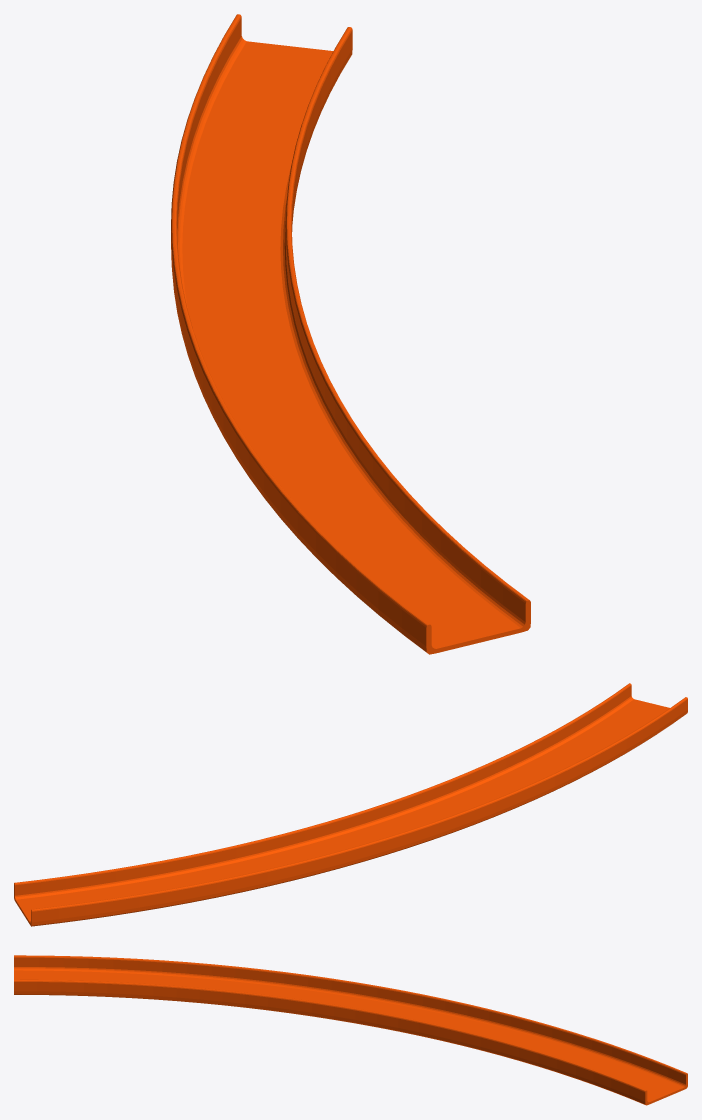
The model's file is Curva media 45.FBX.
3 views of the same model, one above another, from view 1: azimuth 30°, elevation 25°; view 2: azimuth 150°, elevation 25°; view 3: azimuth 270°, elevation 25° (orthographic). The views are drawn at different scales.
Visible parts, largest first — view 1: Curva média 45; view 2: Curva média 45; view 3: Curva média 45.
Part boxes in pixels (x1,y1,x2,y2): Curva média 45: [171, 14, 530, 654]; Curva média 45: [14, 683, 687, 926]; Curva média 45: [14, 955, 687, 1105].
Bounding box in the file's own units: 1332 × 69.33 × 2789.
